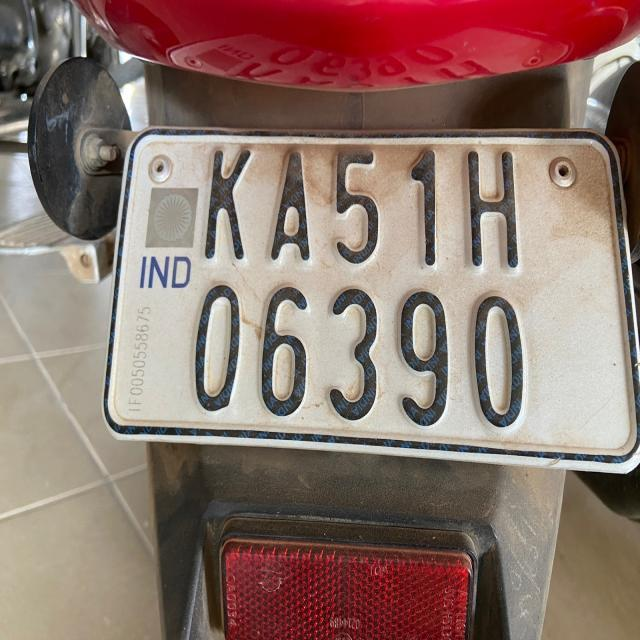0: (472, 292, 530, 439), (188, 271, 245, 414)
1: (402, 140, 445, 273)
3: (321, 283, 382, 426)
5: (327, 136, 387, 270)
6: (258, 276, 314, 414)
9: (390, 286, 455, 436)
A: (265, 140, 314, 268)
H: (454, 144, 530, 281)
K: (195, 139, 254, 267)
